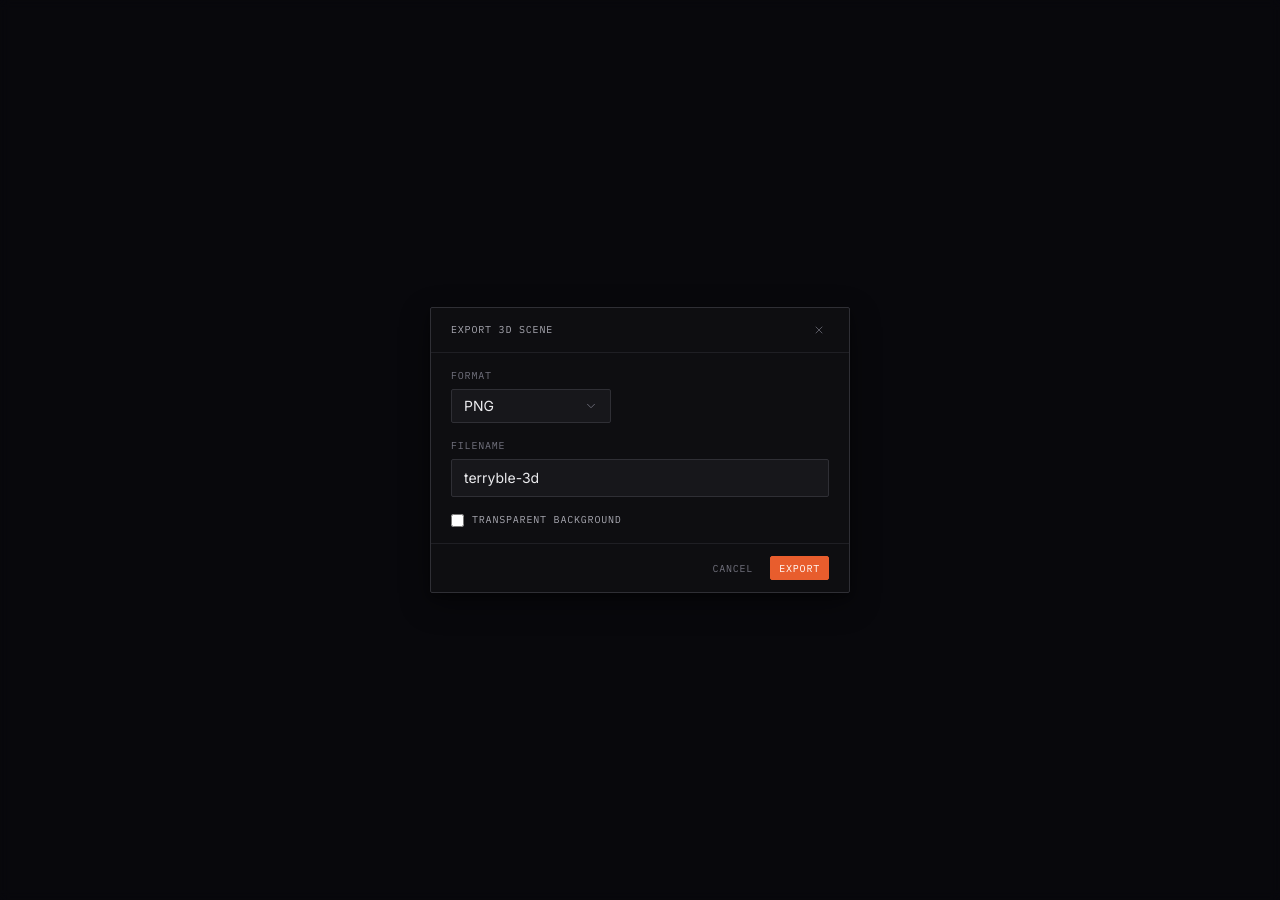
ThreeExportDialog › lists all 5 formats (PNG/JPEG/WebP/PDF/GIF)
This screenshot has width=1280, height=900.
Click the dropdown: {"x": 531, "y": 406} left=451, top=389, right=611, bottom=423
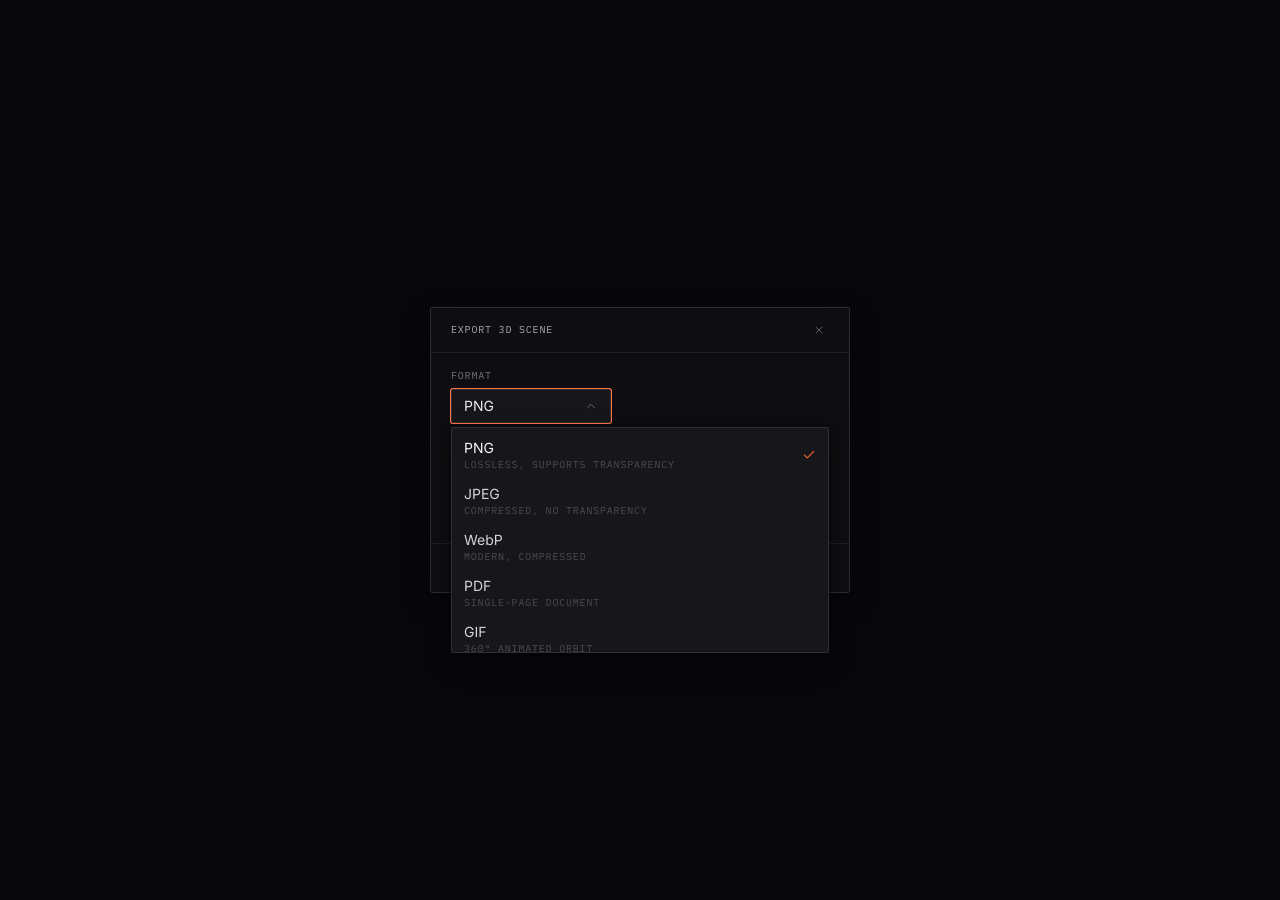
Now the option "PNG Lossless, supports transparency" is shown, box left=452, top=432, right=828, bottom=478
Now the option "JPEG Compressed, no transparency" is shown, box left=464, top=485, right=648, bottom=517
Now the option "WebP Modern, compressed" is shown, box left=464, top=531, right=586, bottom=563
